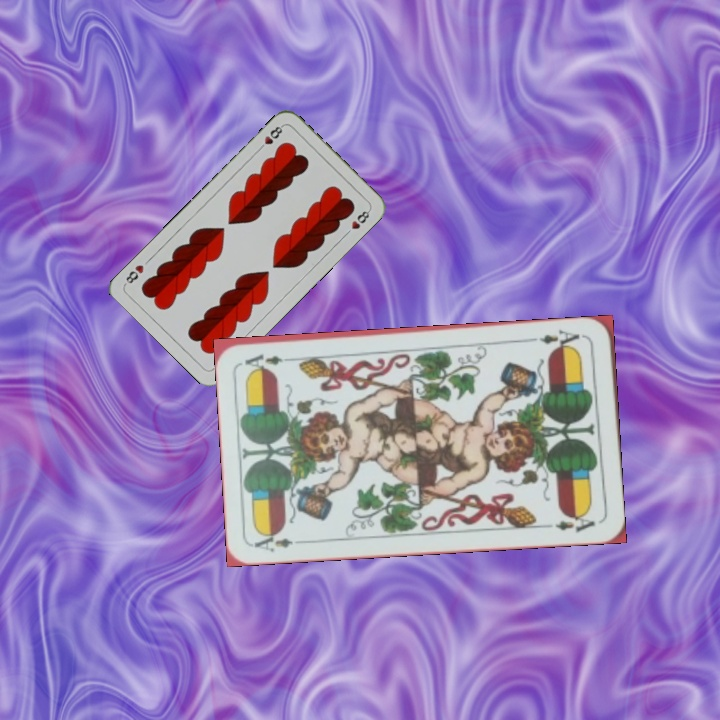EA: (250, 528, 309, 555), (528, 326, 588, 352)
H8: (254, 121, 286, 153)
